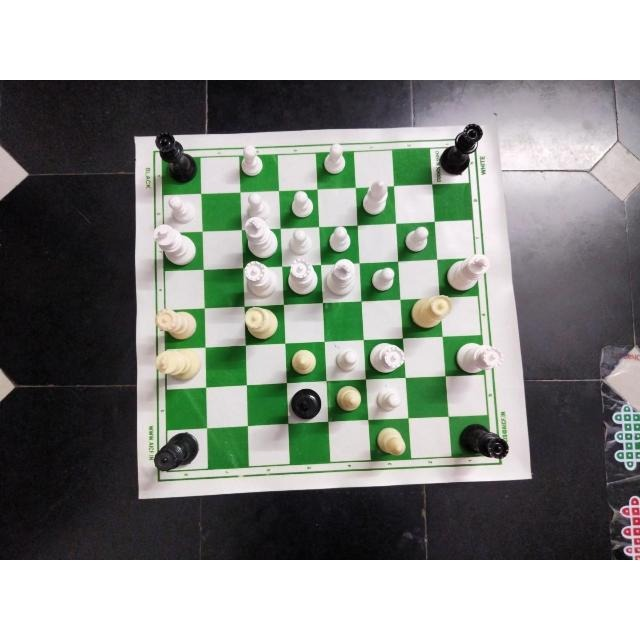black-king: (286, 385, 323, 422)
black-queen: (439, 122, 485, 178), (149, 430, 199, 480), (455, 421, 511, 465), (151, 132, 198, 184)
white-bishop: (359, 179, 391, 221), (374, 425, 408, 461), (330, 383, 362, 417), (289, 346, 317, 376)
white-king: (151, 223, 198, 266), (150, 346, 204, 383), (445, 252, 489, 297), (239, 218, 279, 256), (324, 259, 358, 299)
white-pawn: (163, 194, 198, 225), (237, 142, 265, 180), (242, 190, 272, 222), (372, 386, 404, 416), (323, 140, 349, 176), (329, 344, 360, 374), (285, 189, 314, 220), (402, 225, 434, 253), (285, 228, 313, 258), (368, 264, 396, 292), (327, 225, 352, 254)
white-queen: (453, 338, 502, 374), (408, 295, 452, 333), (152, 308, 198, 340), (282, 259, 319, 298), (242, 304, 278, 340), (367, 341, 405, 375), (243, 259, 275, 297)
